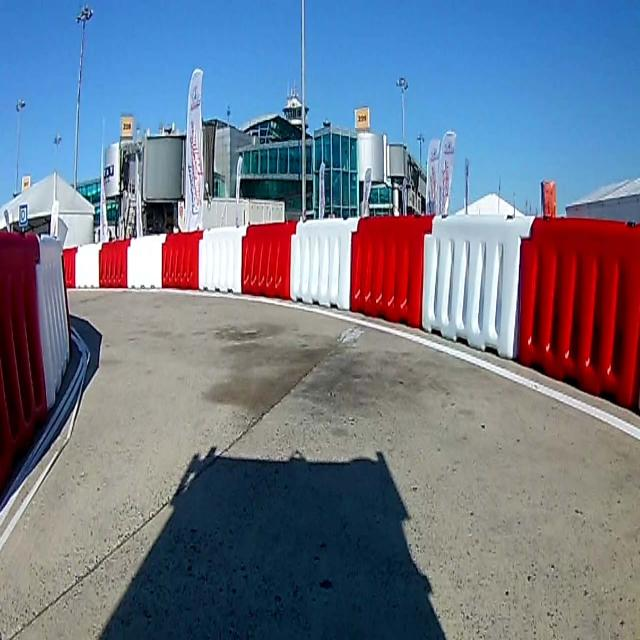durak: (18, 204, 28, 226)
